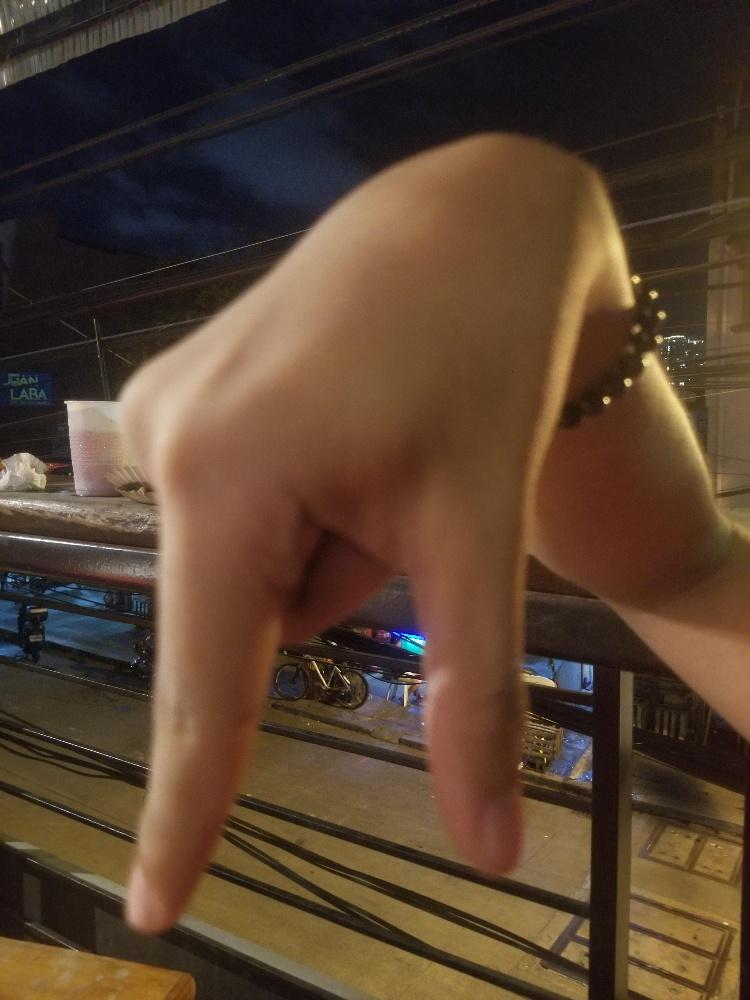q: (120, 130, 607, 934)
